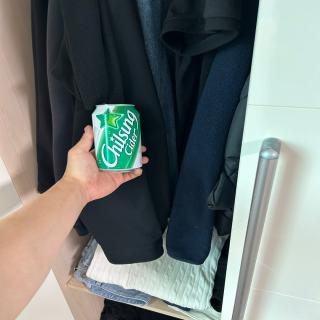chilsung: (89, 101, 146, 172)
